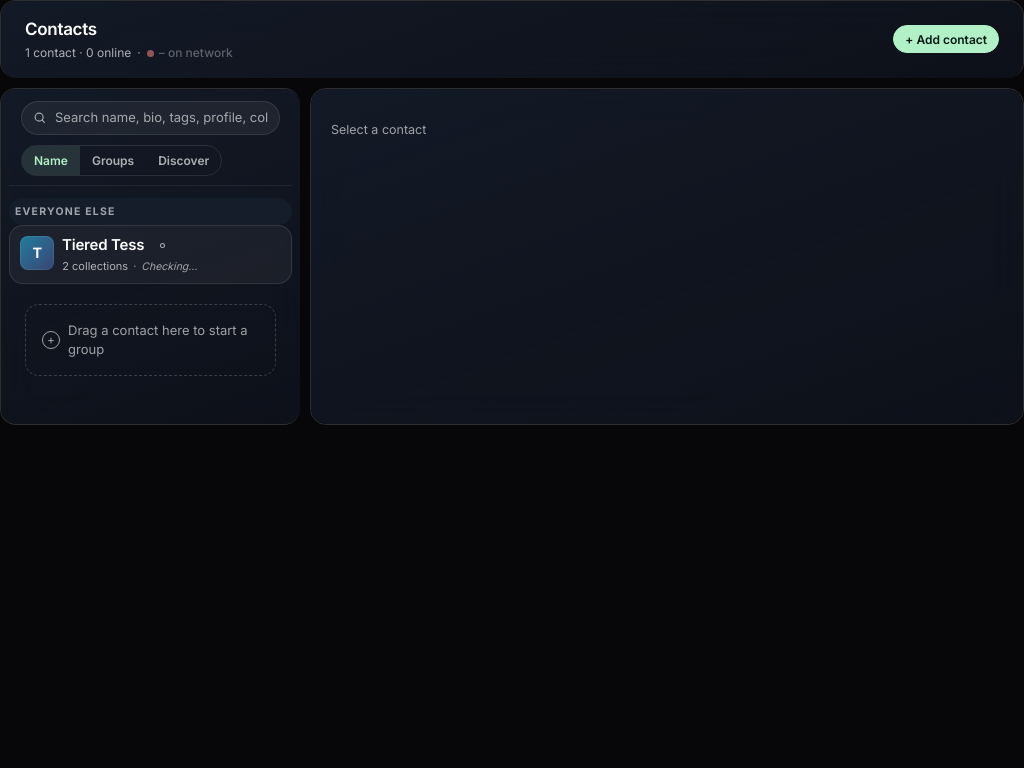
Test: QURATOR-378 rev b — the contact pane in four tiers › tiers in order, no wrapper card: about → shares → details → the Private box
Click the option with class "contact-card": (37, 253) [9, 226, 292, 284]
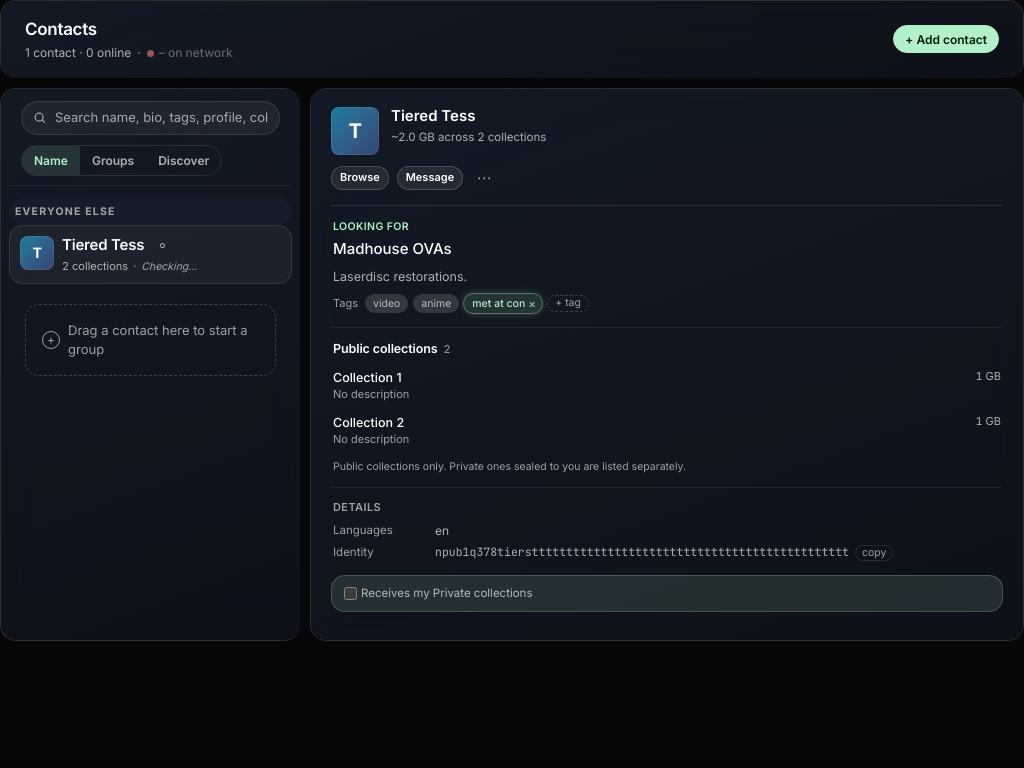
Result: the element with class "about" is shown at [333, 220, 589, 313]
Result: the element with class "mine" reads "Receives my Private collections" at [361, 586, 532, 600]
